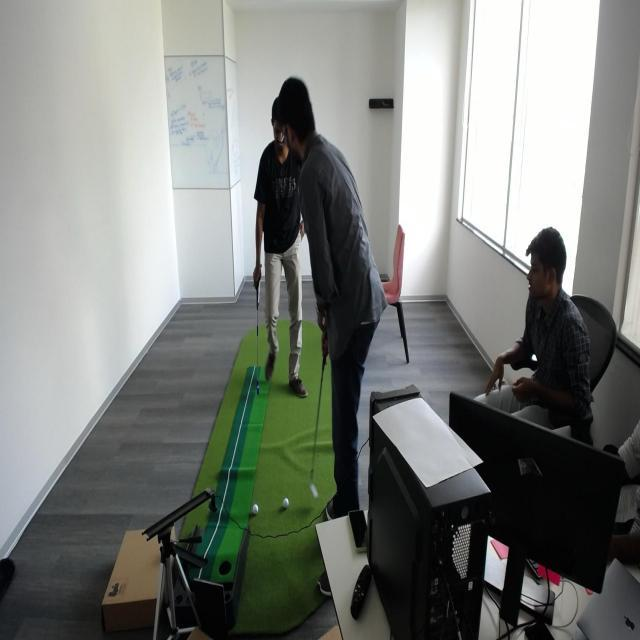ClubHead: (302, 461, 324, 509)
GolfBall: (278, 492, 292, 514), (248, 498, 262, 520)
